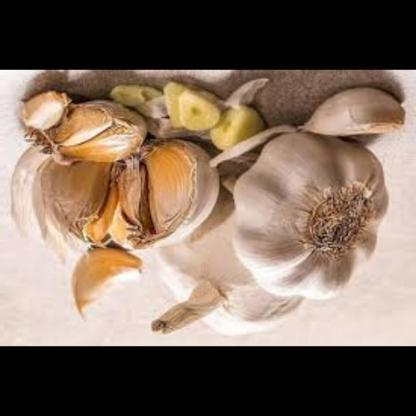garlic: (229, 142, 388, 310), (149, 204, 304, 341), (101, 134, 221, 264), (16, 136, 119, 259), (31, 84, 148, 179), (151, 81, 273, 167), (69, 235, 155, 312), (295, 88, 411, 138)
